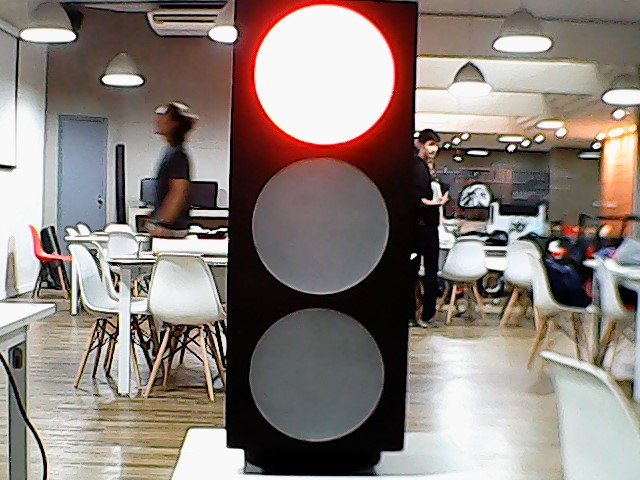vermelho: (226, 1, 421, 475)
